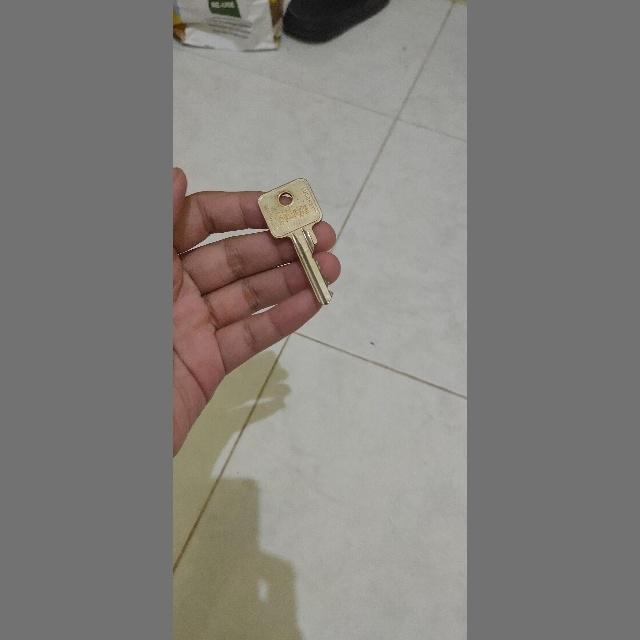Keys: (256, 172, 340, 308)
